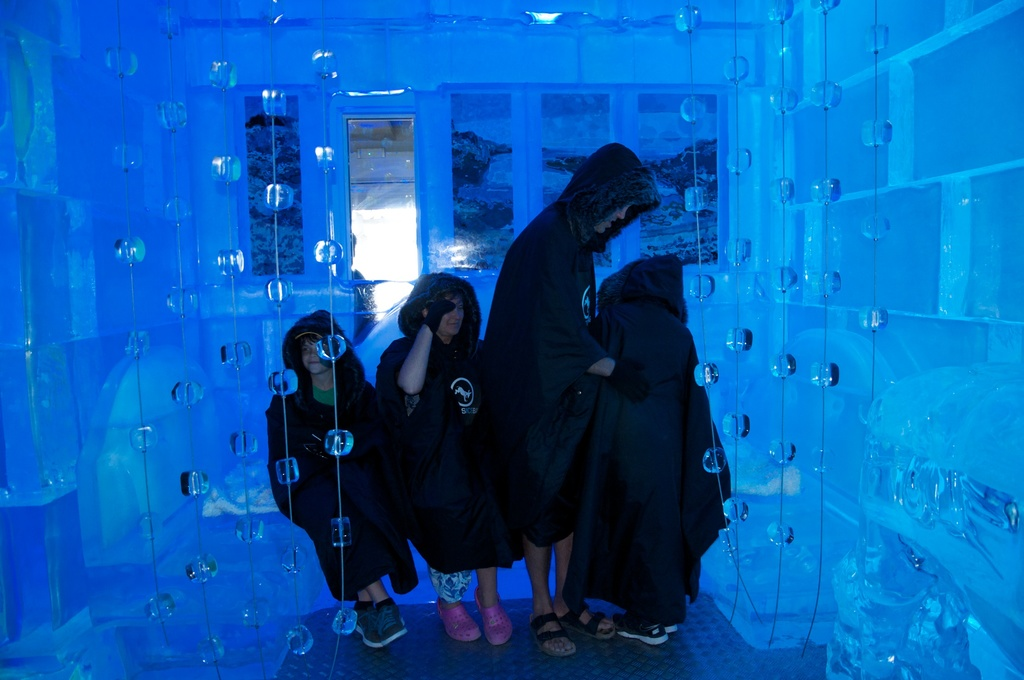Person: (484, 140, 663, 657), (558, 255, 734, 644), (262, 307, 415, 644)
